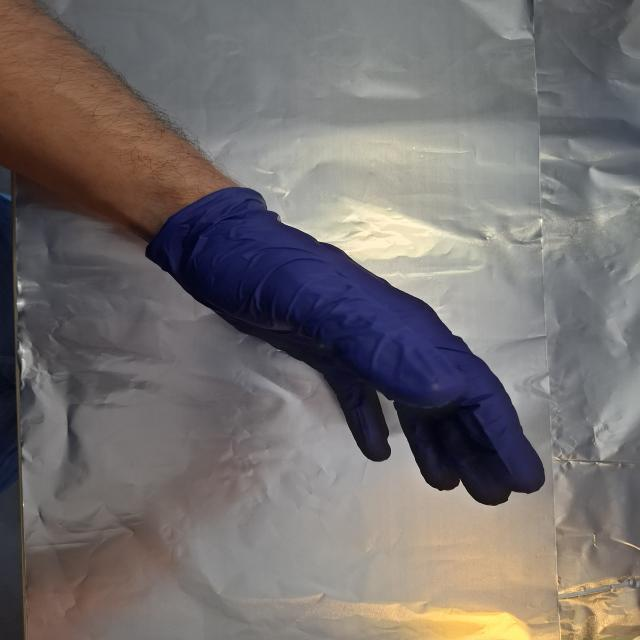glove_on: (153, 190, 550, 509)
